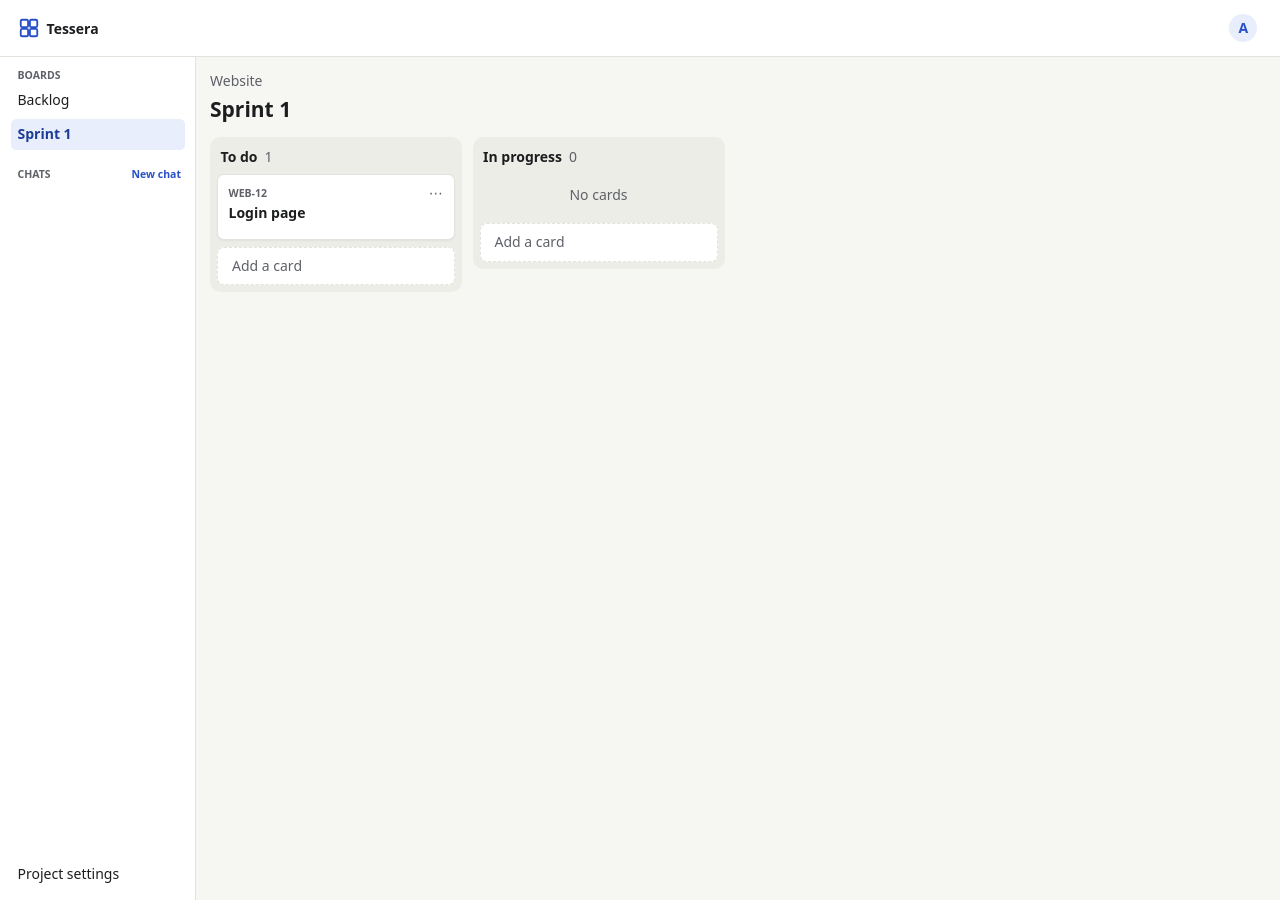
Test case: Board › puts a card back and says so when the move cannot be saved
Step 1. Click the button named "Move WEB-12 to…" → (436, 193), box [420, 178, 452, 209]
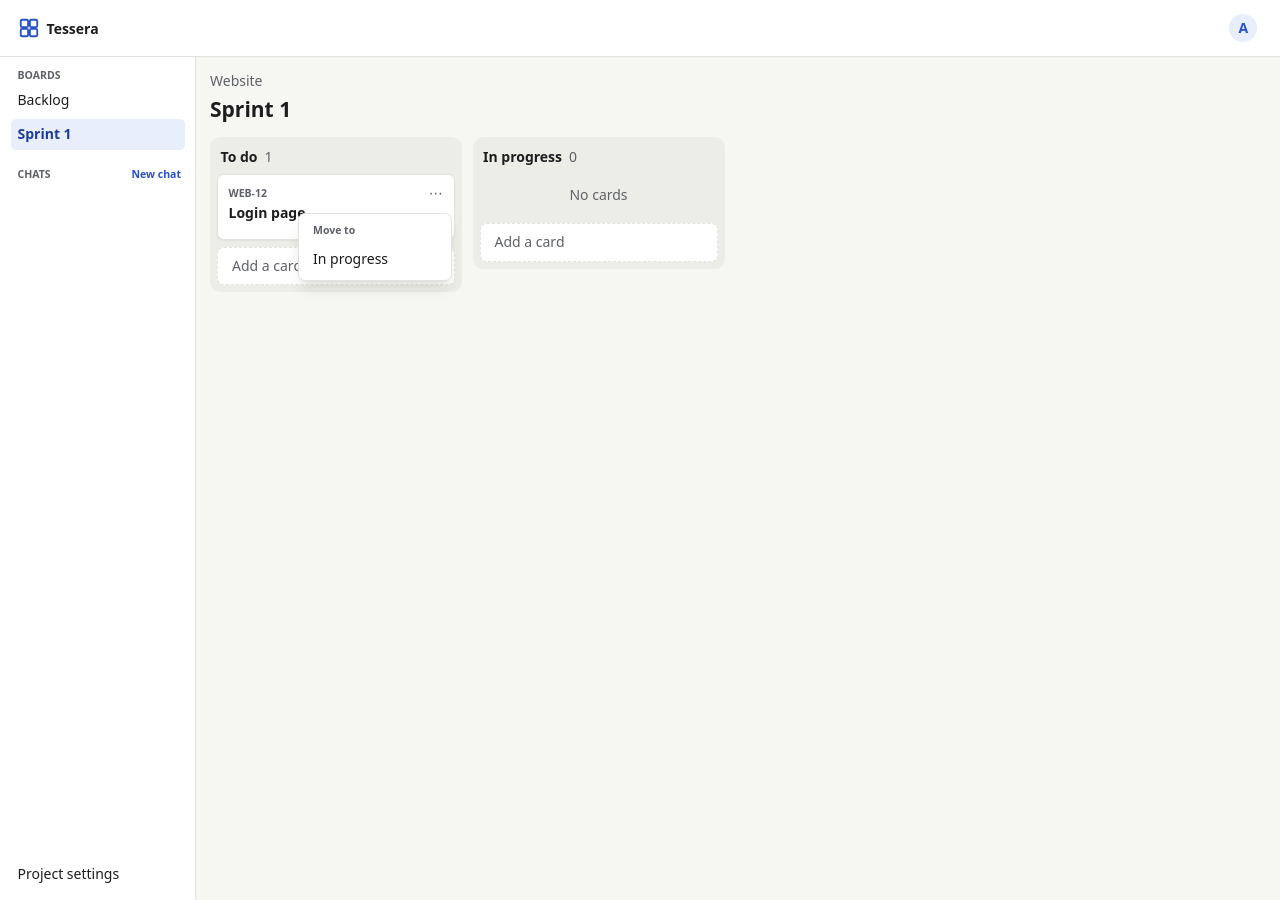
Step 2. Click the menu item "In progress" → (350, 258), box [313, 249, 388, 268]
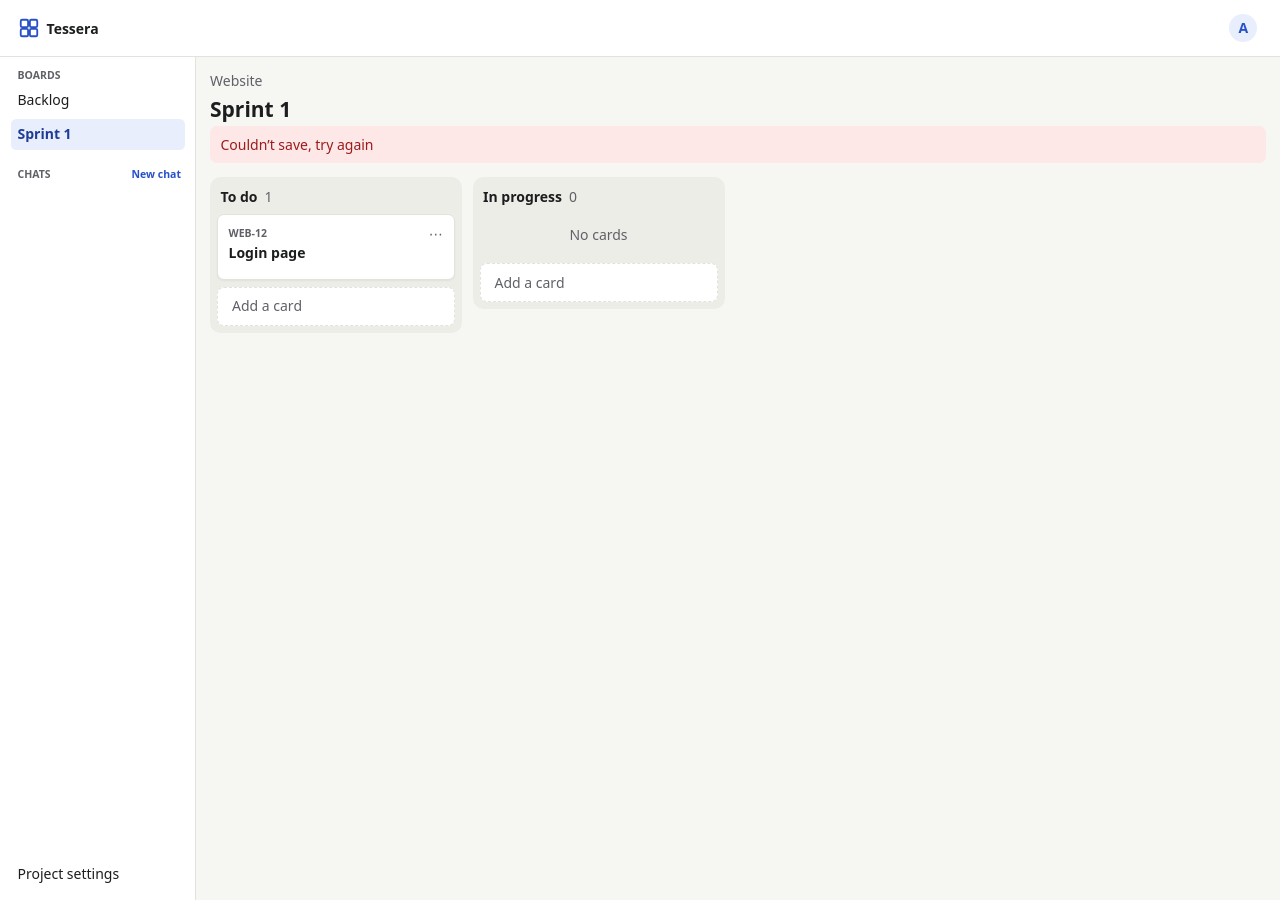
Check: the message reads "Couldn’t save, try again", box [220, 135, 374, 154]
